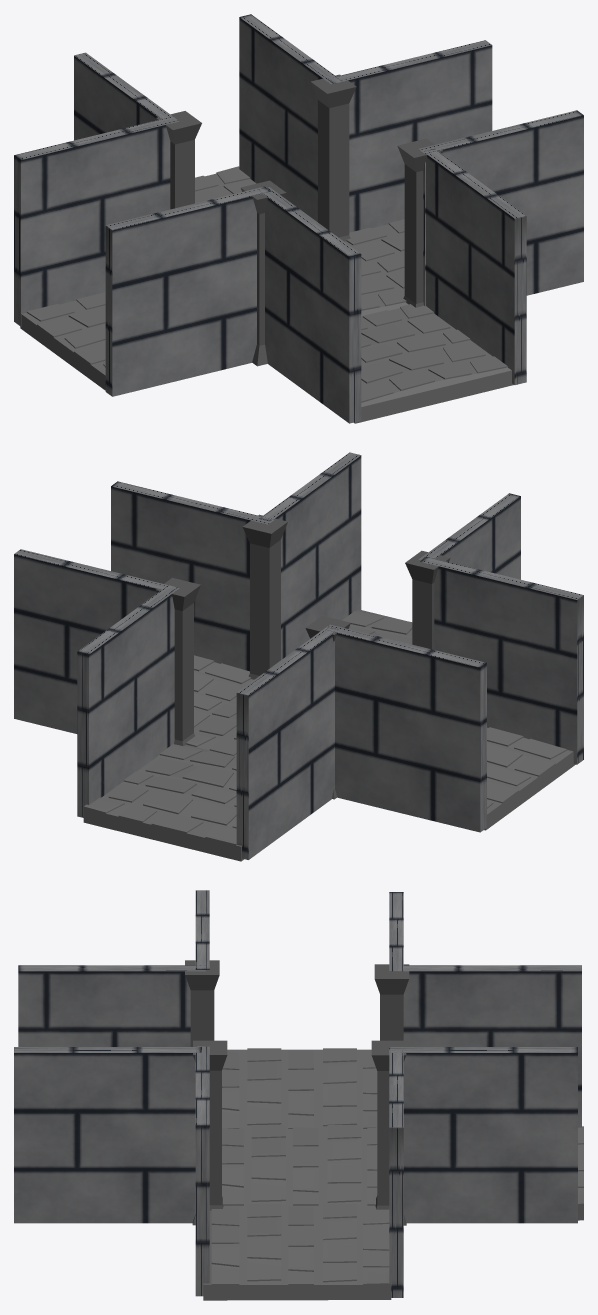
The model's file is kruising.fbx.
The picture shows the model from 3 angles, top to bottom: view 1: azimuth 30°, elevation 25°; view 2: azimuth 150°, elevation 25°; view 3: azimuth 270°, elevation 25°; orthographic projection. The views are drawn at different scales.
Visible parts, largest first — view 1: wall.039, wall.040, wall.041, wall.037, wall.042, wall.035, floor.006, wall.038, pilar.041, floor.009, wall.034, pilar.040 (+3 smaller); view 2: wall.040, wall.039, wall.034, wall.035, wall.038, floor.006, wall.037, wall.042, floor.009, pilar.040, wall.041, pilar.041 (+3 smaller); view 3: wall.042, wall.038, floor.007, wall.034, wall.041, floor.006, floor.009, wall.037, wall.035, pilar.041, pilar.040, pilar.039 (+3 smaller).
Part boxes in pixels (x1,y1,x2,y2): wall.039: [105, 186, 270, 396]; wall.040: [14, 116, 179, 326]; wall.041: [259, 187, 361, 423]; wall.037: [328, 40, 492, 232]; wall.042: [424, 149, 526, 384]; wall.035: [418, 110, 583, 306]; floor.006: [195, 166, 513, 423]; wall.038: [239, 14, 342, 221]; pilar.041: [311, 74, 356, 241]; floor.009: [20, 292, 105, 390]; wall.034: [74, 52, 172, 140]; pilar.040: [397, 138, 443, 307]; wall.040: [323, 624, 486, 832]; wall.039: [420, 557, 583, 764]; wall.034: [236, 626, 338, 859]; wall.035: [111, 481, 274, 671]; wall.038: [77, 585, 179, 817]; floor.006: [83, 609, 412, 861]; wall.037: [14, 549, 177, 733]; wall.042: [259, 452, 361, 659]; floor.009: [484, 727, 575, 830]; pilar.040: [242, 514, 287, 679]; wall.041: [418, 493, 520, 579]; pilar.041: [155, 577, 200, 746]; wall.042: [14, 1047, 201, 1223]; wall.038: [390, 1047, 577, 1223]; floor.007: [203, 1204, 391, 1300]; wall.034: [403, 965, 581, 1127]; wall.041: [18, 965, 206, 1046]; floor.006: [222, 1125, 583, 1220]; floor.009: [222, 1048, 377, 1128]; wall.037: [389, 1048, 403, 1297]; wall.035: [195, 1046, 209, 1296]; pilar.041: [371, 1040, 406, 1225]; pilar.040: [192, 1040, 227, 1225]; pilar.039: [185, 960, 219, 1046].
Bounding box in the file's own units: 597 × 203 × 606.
